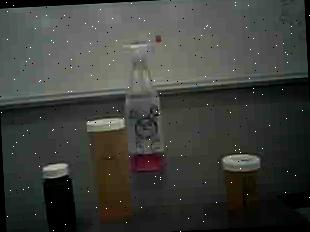Bottle A: (88, 114, 135, 222)
Bottle B: (205, 150, 267, 220)
Bottle C: (41, 156, 85, 232)
hazard: (113, 26, 177, 173)
